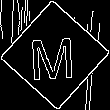M_N: (30, 28, 80, 82)
